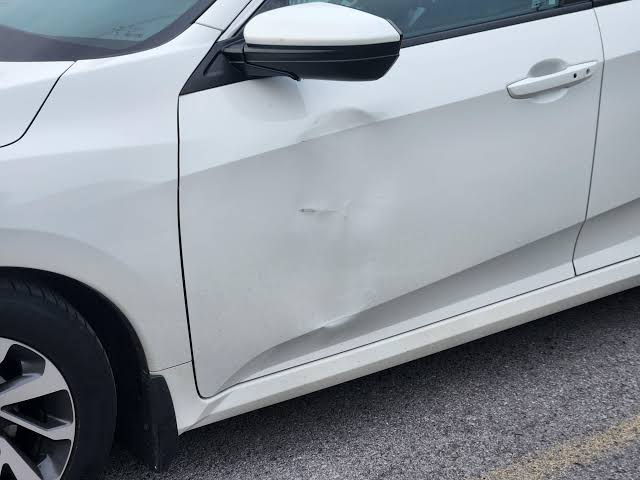doorouter-dent: (191, 28, 584, 377)
